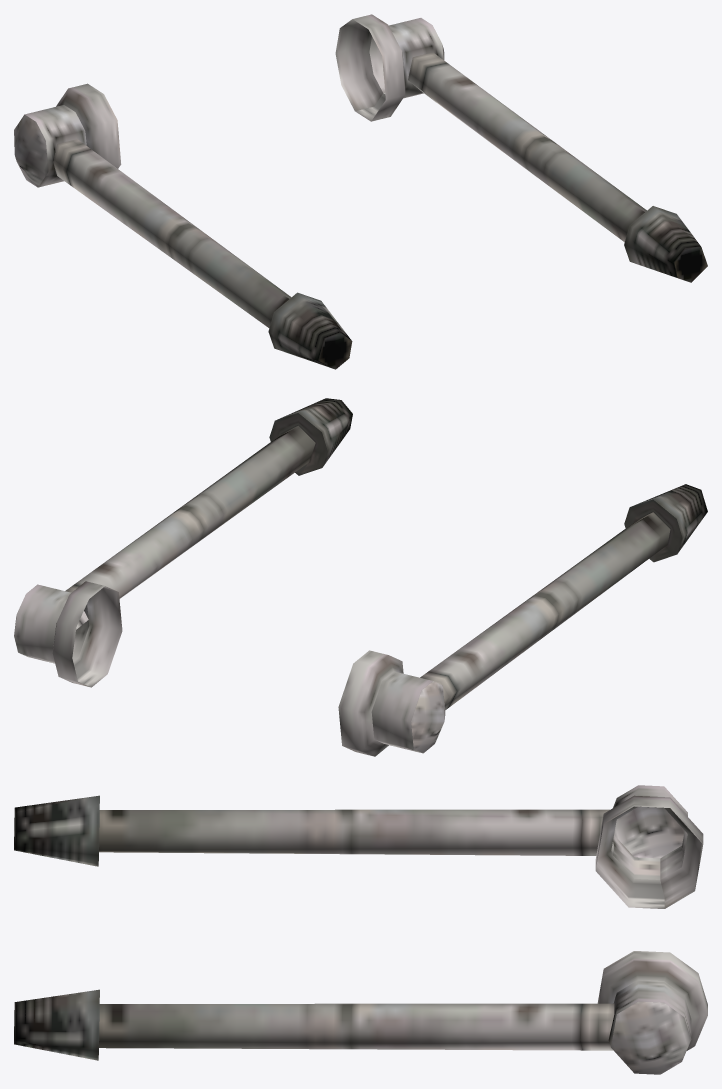
File: corellian_corvette_turret_large_weapon_s01_l2.fbx
The picture shows the model from 3 angles, top to bottom: view 1: azimuth 30°, elevation 25°; view 2: azimuth 150°, elevation 25°; view 3: azimuth 270°, elevation 25°; orthographic projection. The views are drawn at different scales.
Visible parts, largest first — view 1: mesh_node; view 2: mesh_node; view 3: mesh_node.
Part boxes in pixels (<box>): mesh_node: <box>14,14,707,369</box>; mesh_node: <box>14,398,707,756</box>; mesh_node: <box>14,785,707,1074</box>.
Bounding box in the file's own units: 9.35 × 1.91 × 11.71.
